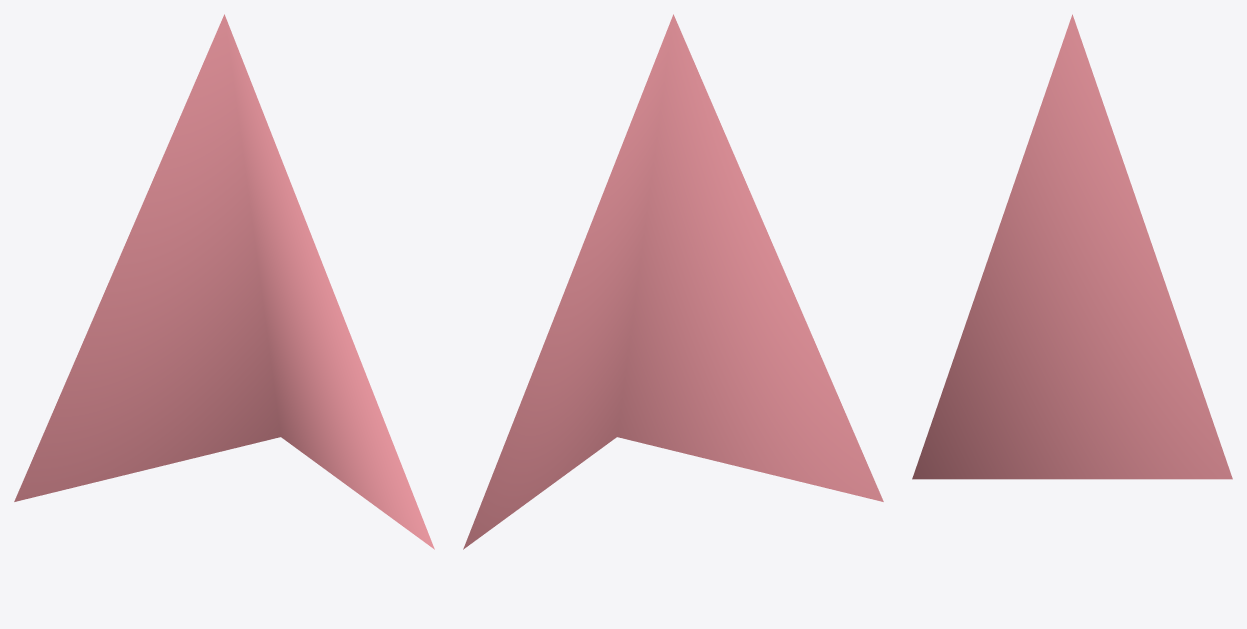
Rendered from placeholder.gltf.
3 views of the same model, side by side, from view 1: azimuth 30°, elevation 25°; view 2: azimuth 150°, elevation 25°; view 3: azimuth 270°, elevation 25° (orthographic). The views are drawn at different scales.
Parts seen in each view (by area): view 1: melee-placeholder-node; view 2: melee-placeholder-node; view 3: melee-placeholder-node.
Boxes of the visible parts, <box> form: melee-placeholder-node: <box>14,14,434,549</box>; melee-placeholder-node: <box>463,14,883,549</box>; melee-placeholder-node: <box>912,14,1232,479</box>.
Size of the model in its own units: 0.6 by 1.1 by 0.6.
